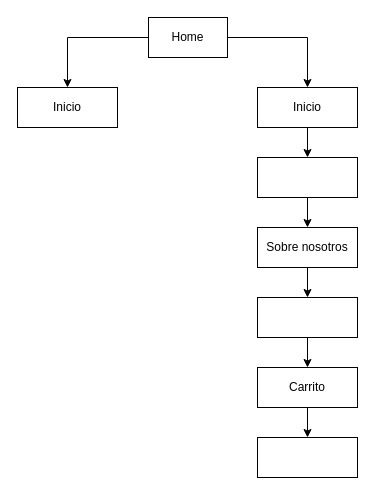
This 375x495 diagram has some shape labels left out. Here are the shapes that lost their labels. From the top down, the centre of each, then its label:
the point at 307,177: Ver Producto
the point at 307,317: Contacto
the point at 307,457: Cuenta
